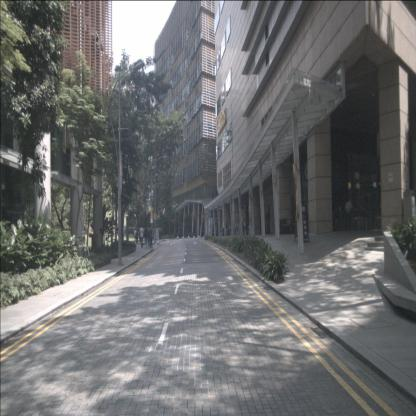human-pedestrian-adult: (345, 196, 354, 230), (148, 224, 154, 248), (139, 224, 144, 248), (147, 224, 152, 247), (144, 225, 148, 248), (134, 228, 137, 244), (136, 230, 138, 243)
